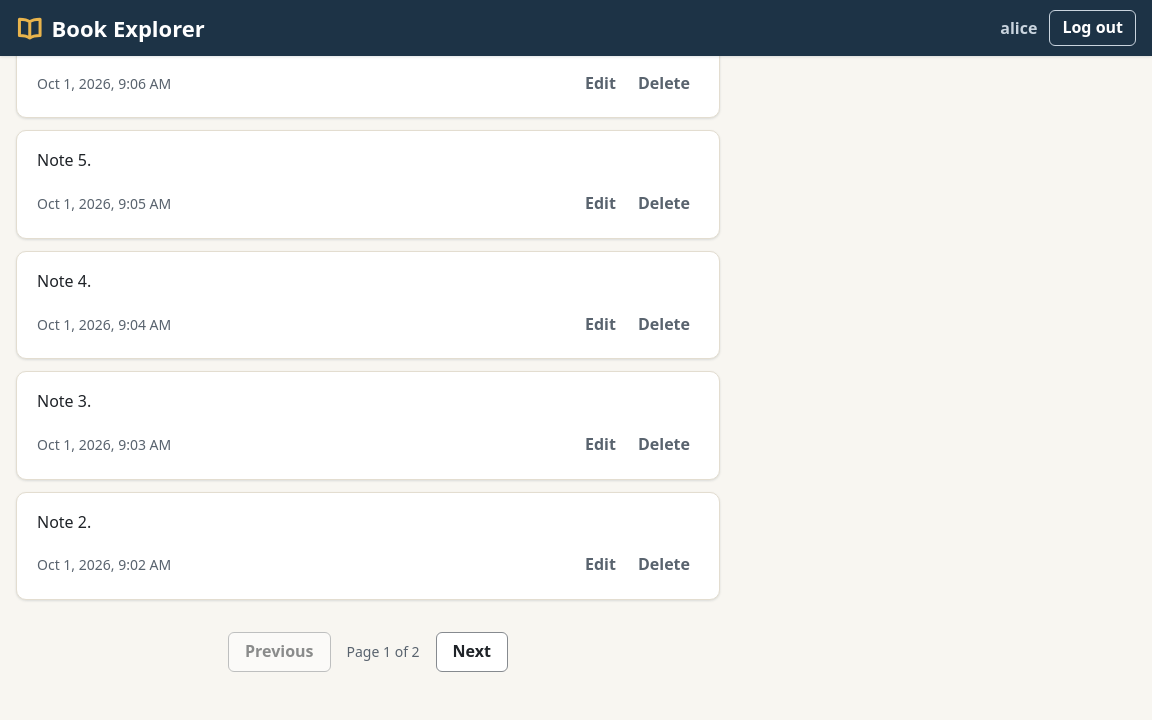
Test: 21 notes show 20 on page 1 and 1 on page 2
(page scrolled)
Click the button "Next": click(472, 652) [436,632,508,672]
(page scrolled)
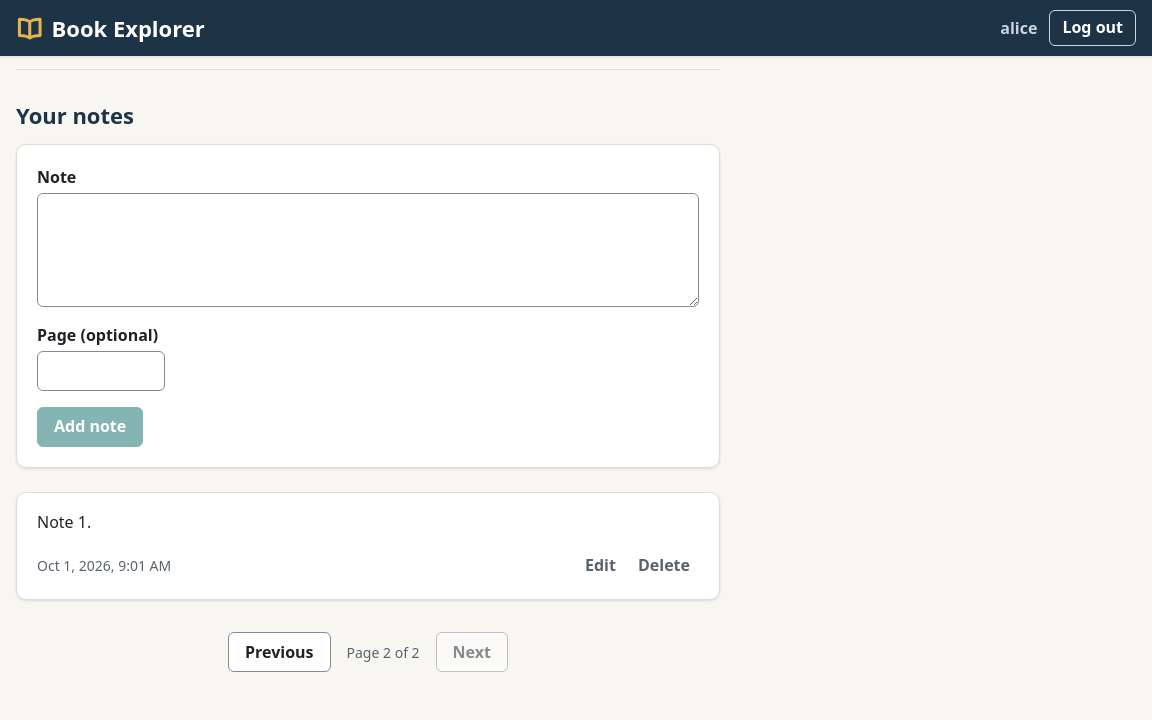
Expected: the text "Page 2 of 2" is shown, [346,642,420,663]
Expected: the number of list items is 1, [16,492,720,600]
Expected: the list item shows "Note 1.", [37,511,91,533]
